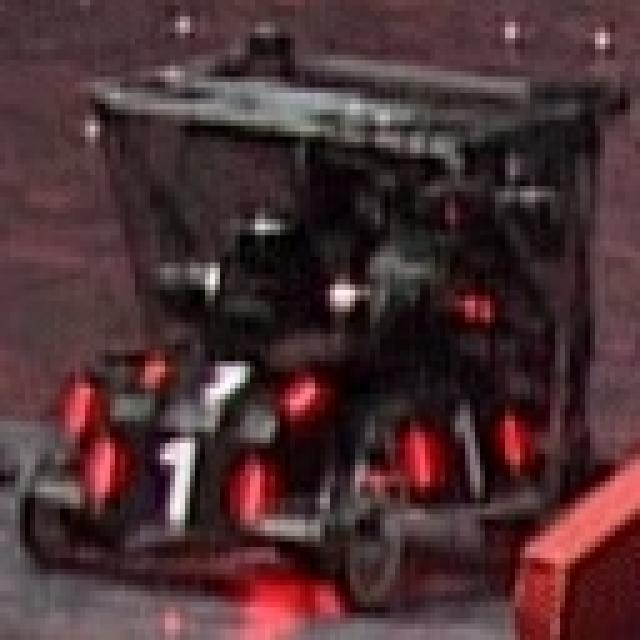R1: (65, 410, 285, 536), (388, 383, 532, 503), (120, 334, 330, 416)
